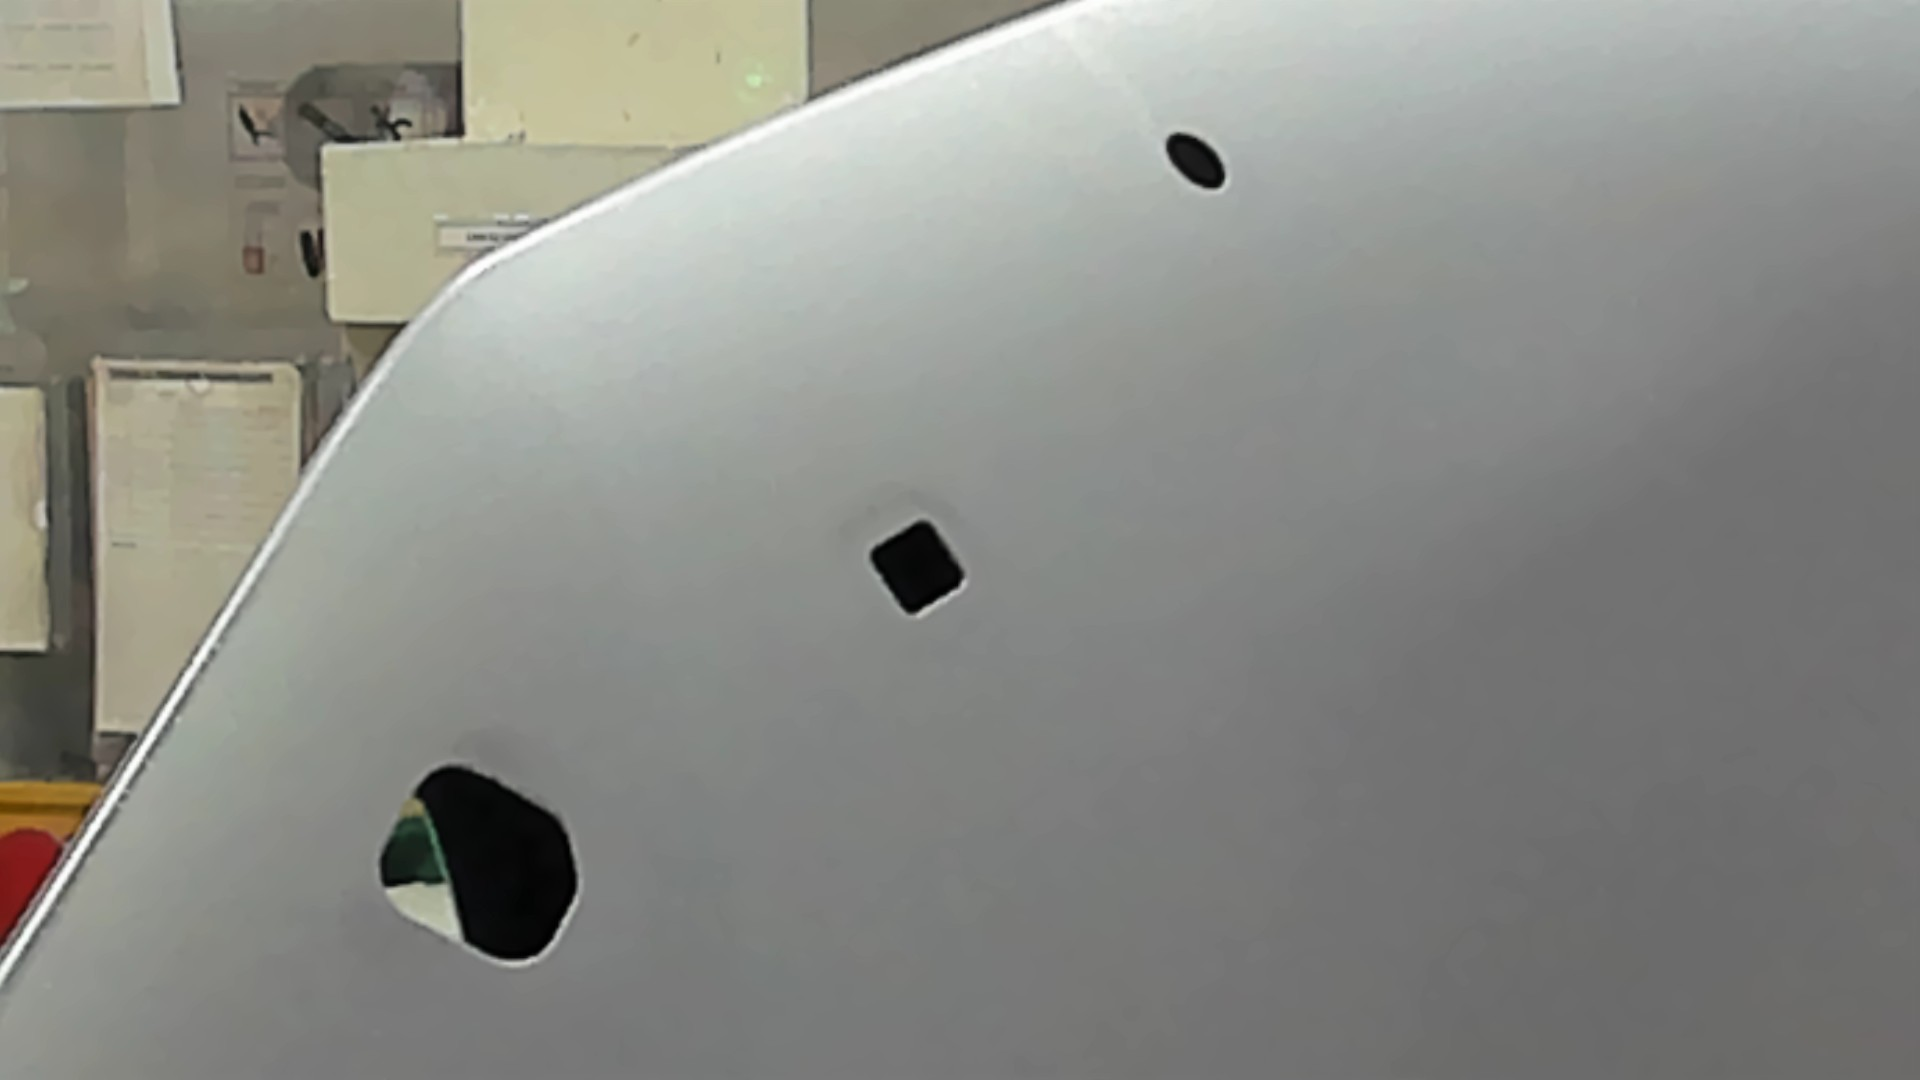chico: (1159, 127, 1230, 200)
grande: (359, 753, 589, 992)
mediano: (866, 504, 975, 632)
